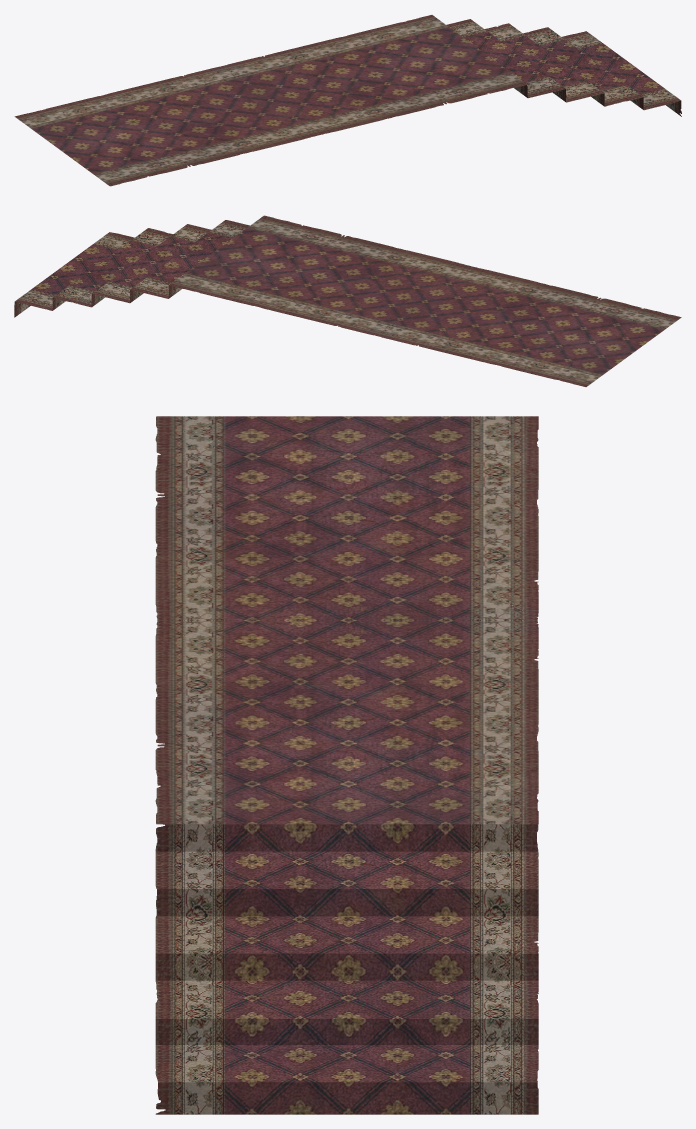
Rendered from bg_lut_lucastle_churchincapet01_sm_msj.FBX.
The picture shows the model from 3 angles, top to bottom: view 1: azimuth 30°, elevation 25°; view 2: azimuth 150°, elevation 25°; view 3: azimuth 270°, elevation 25°; orthographic projection. The views are drawn at different scales.
Parts seen in each view (by area): view 1: bg_lut_lucastle_churchincapet01_sm_msj; view 2: bg_lut_lucastle_churchincapet01_sm_msj; view 3: bg_lut_lucastle_churchincapet01_sm_msj.
Boxes of the visible parts, x1,y1,x2,y2 form: bg_lut_lucastle_churchincapet01_sm_msj: [14, 15, 681, 186]; bg_lut_lucastle_churchincapet01_sm_msj: [14, 215, 681, 386]; bg_lut_lucastle_churchincapet01_sm_msj: [155, 416, 538, 1114].
Size of the model in its own units: 878 by 103 by 256.
